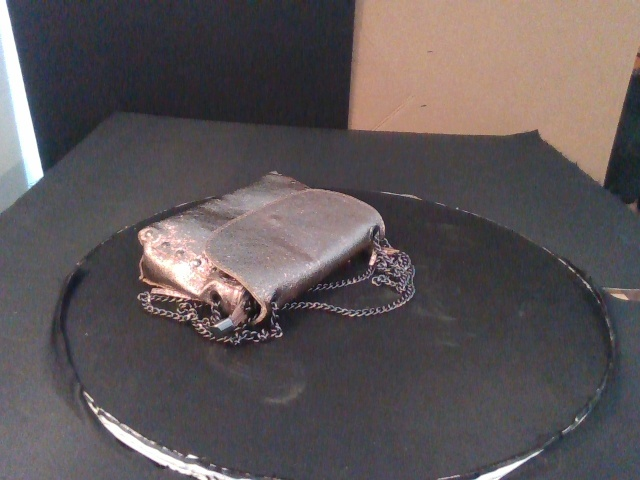bag: (137, 172, 387, 324)
